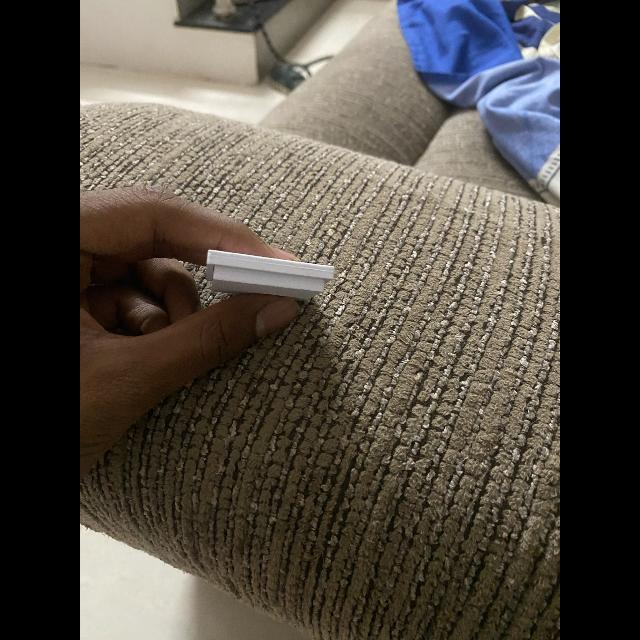RASPBERY PI CAM ENCLOSURE: (206, 250, 334, 300)
